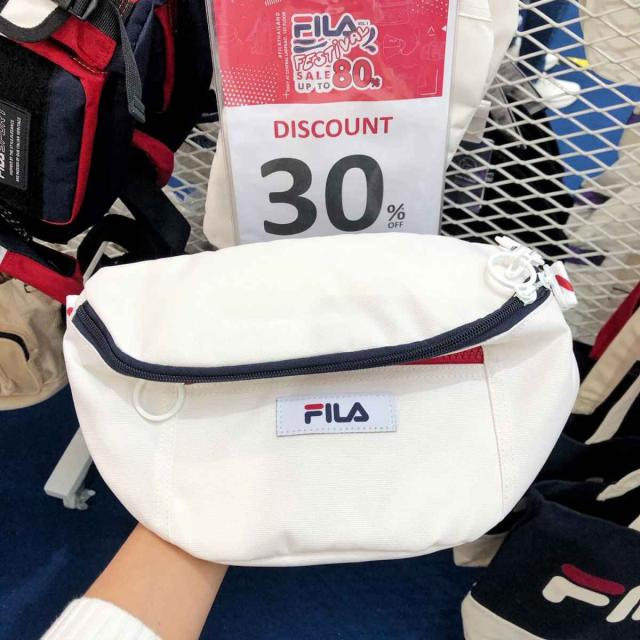handbag: (56, 222, 592, 572)
